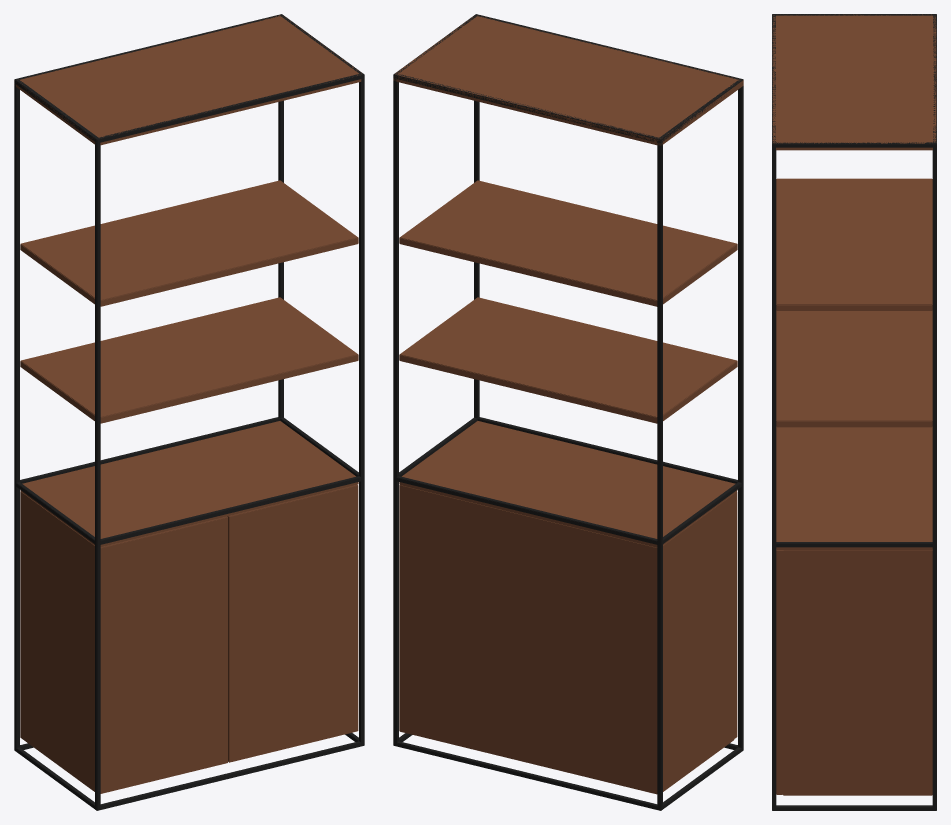
Rendered from model-door.glb.
The picture shows the model from 3 angles, left to right: view 1: azimuth 30°, elevation 25°; view 2: azimuth 150°, elevation 25°; view 3: azimuth 270°, elevation 25°; orthographic projection.
Parts seen in each view (by area): view 1: poel-modular-cabinet; view 2: poel-modular-cabinet; view 3: poel-modular-cabinet.
Boxes of the visible parts, x1,y1,x2,y2 form: poel-modular-cabinet: (14,14,364,810); poel-modular-cabinet: (393,14,743,810); poel-modular-cabinet: (772,14,936,810).
Size of the model in its own units: 0.84 by 2.01 by 0.45.
